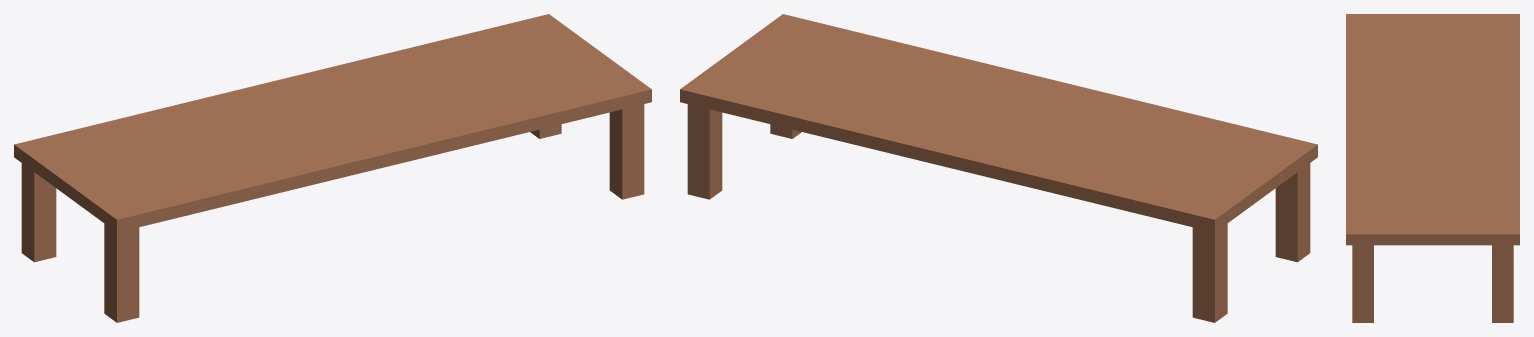
File: Table03.fbx
The picture shows the model from 3 angles, left to right: view 1: azimuth 30°, elevation 25°; view 2: azimuth 150°, elevation 25°; view 3: azimuth 270°, elevation 25°; orthographic projection. The views are drawn at different scales.
Visible parts, largest first — view 1: Table03; view 2: Table03; view 3: Table03.
Boxes of the visible parts, x1,y1,x2,y2 form: Table03: (14, 14, 651, 322); Table03: (680, 14, 1317, 322); Table03: (1346, 14, 1519, 322).
Size of the model in its own units: 6 by 2 by 1.14.
